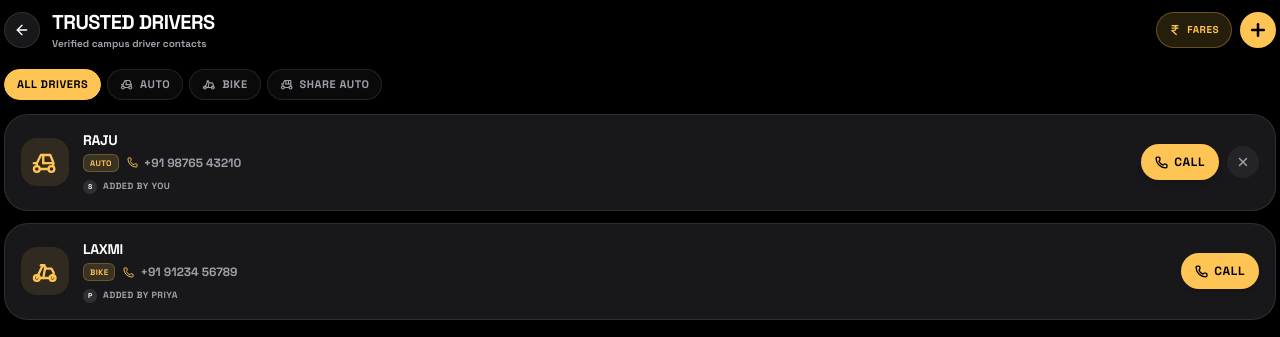
Scenario: TrustedVehiclesView › filters by vehicle type and recovers with the show-all link
Expected: the heading "Raju" is shown, [83,130,117,148]
Click the button "Bike" at (225,84), box [189,69,261,100]
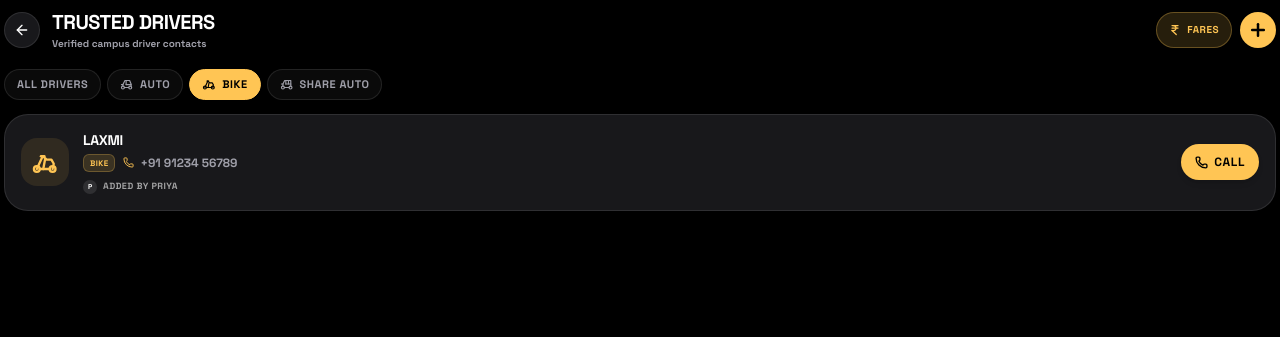
Expected: the heading "Laxmi" is shown, [83,130,123,148]
Result: the heading "Raju" is gone
Click the button "All Drivers" at (53,84), box [4,69,101,100]
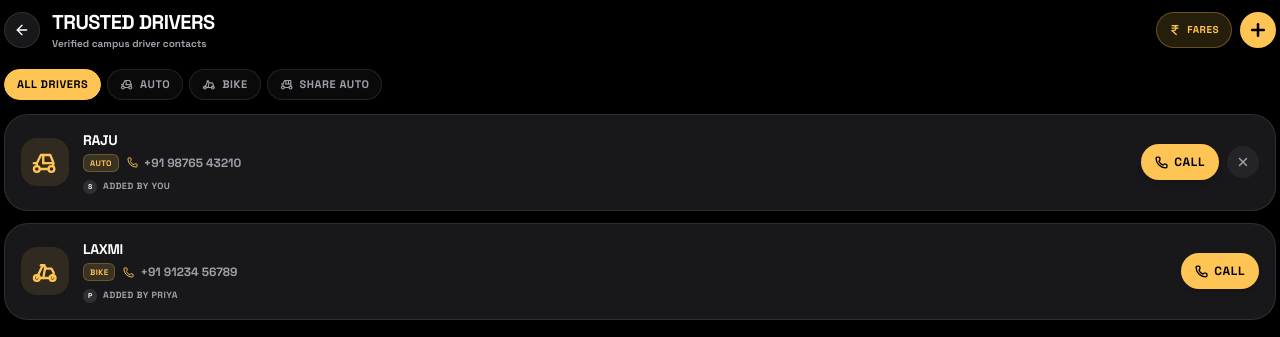
Result: the heading "Raju" is shown at [83,130,117,148]
